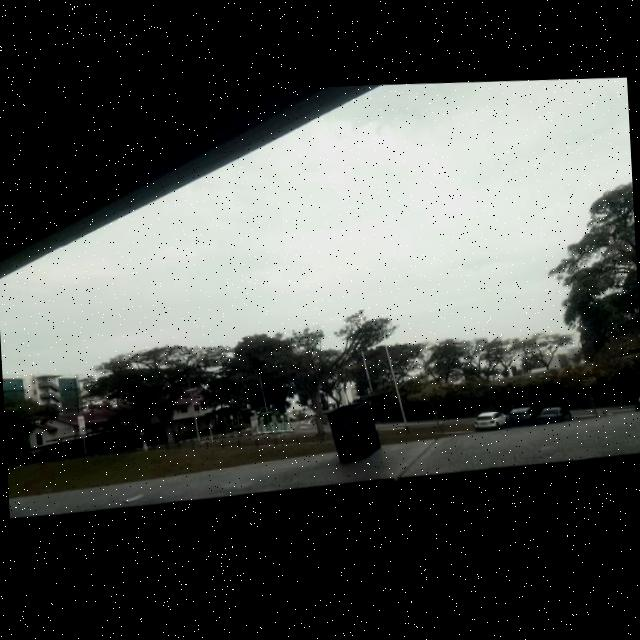C: (338, 415, 350, 431)
